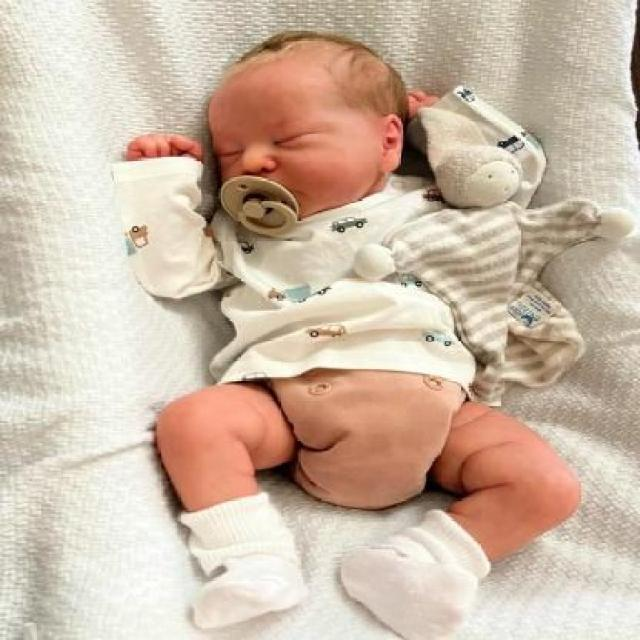baby: (110, 26, 584, 631)
